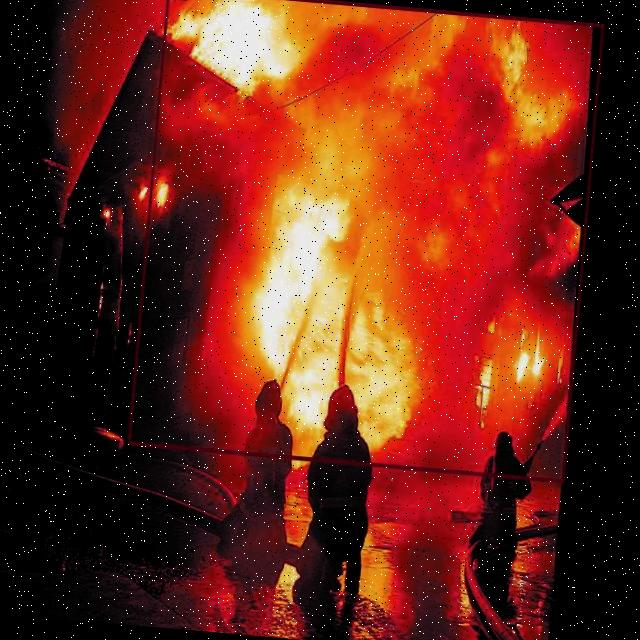fire: (126, 0, 603, 482)
